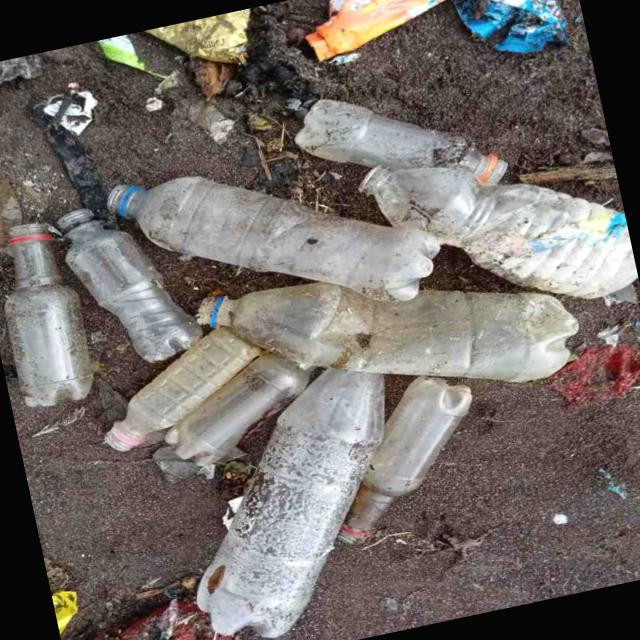chai_nhua: (196, 369, 385, 638), (125, 175, 440, 300), (199, 281, 578, 381), (360, 165, 638, 297), (104, 327, 259, 451)
chai_thuy_tinh: (339, 376, 472, 542), (63, 208, 201, 361), (3, 221, 92, 406), (165, 353, 310, 466)
hop_nhua: (294, 98, 506, 184)
